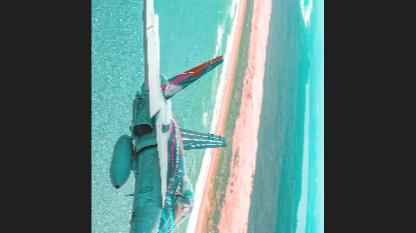F15: (110, 0, 228, 232)
